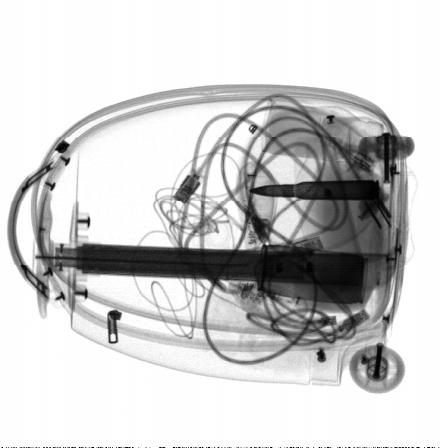Bullet: (245, 179, 381, 201)
